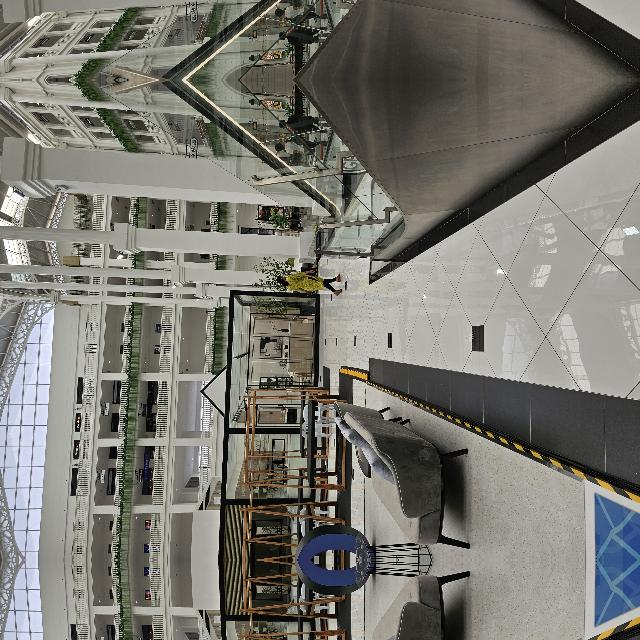obstacle: (14, 410, 168, 546), (14, 574, 168, 640)
person: (260, 354, 294, 426)
